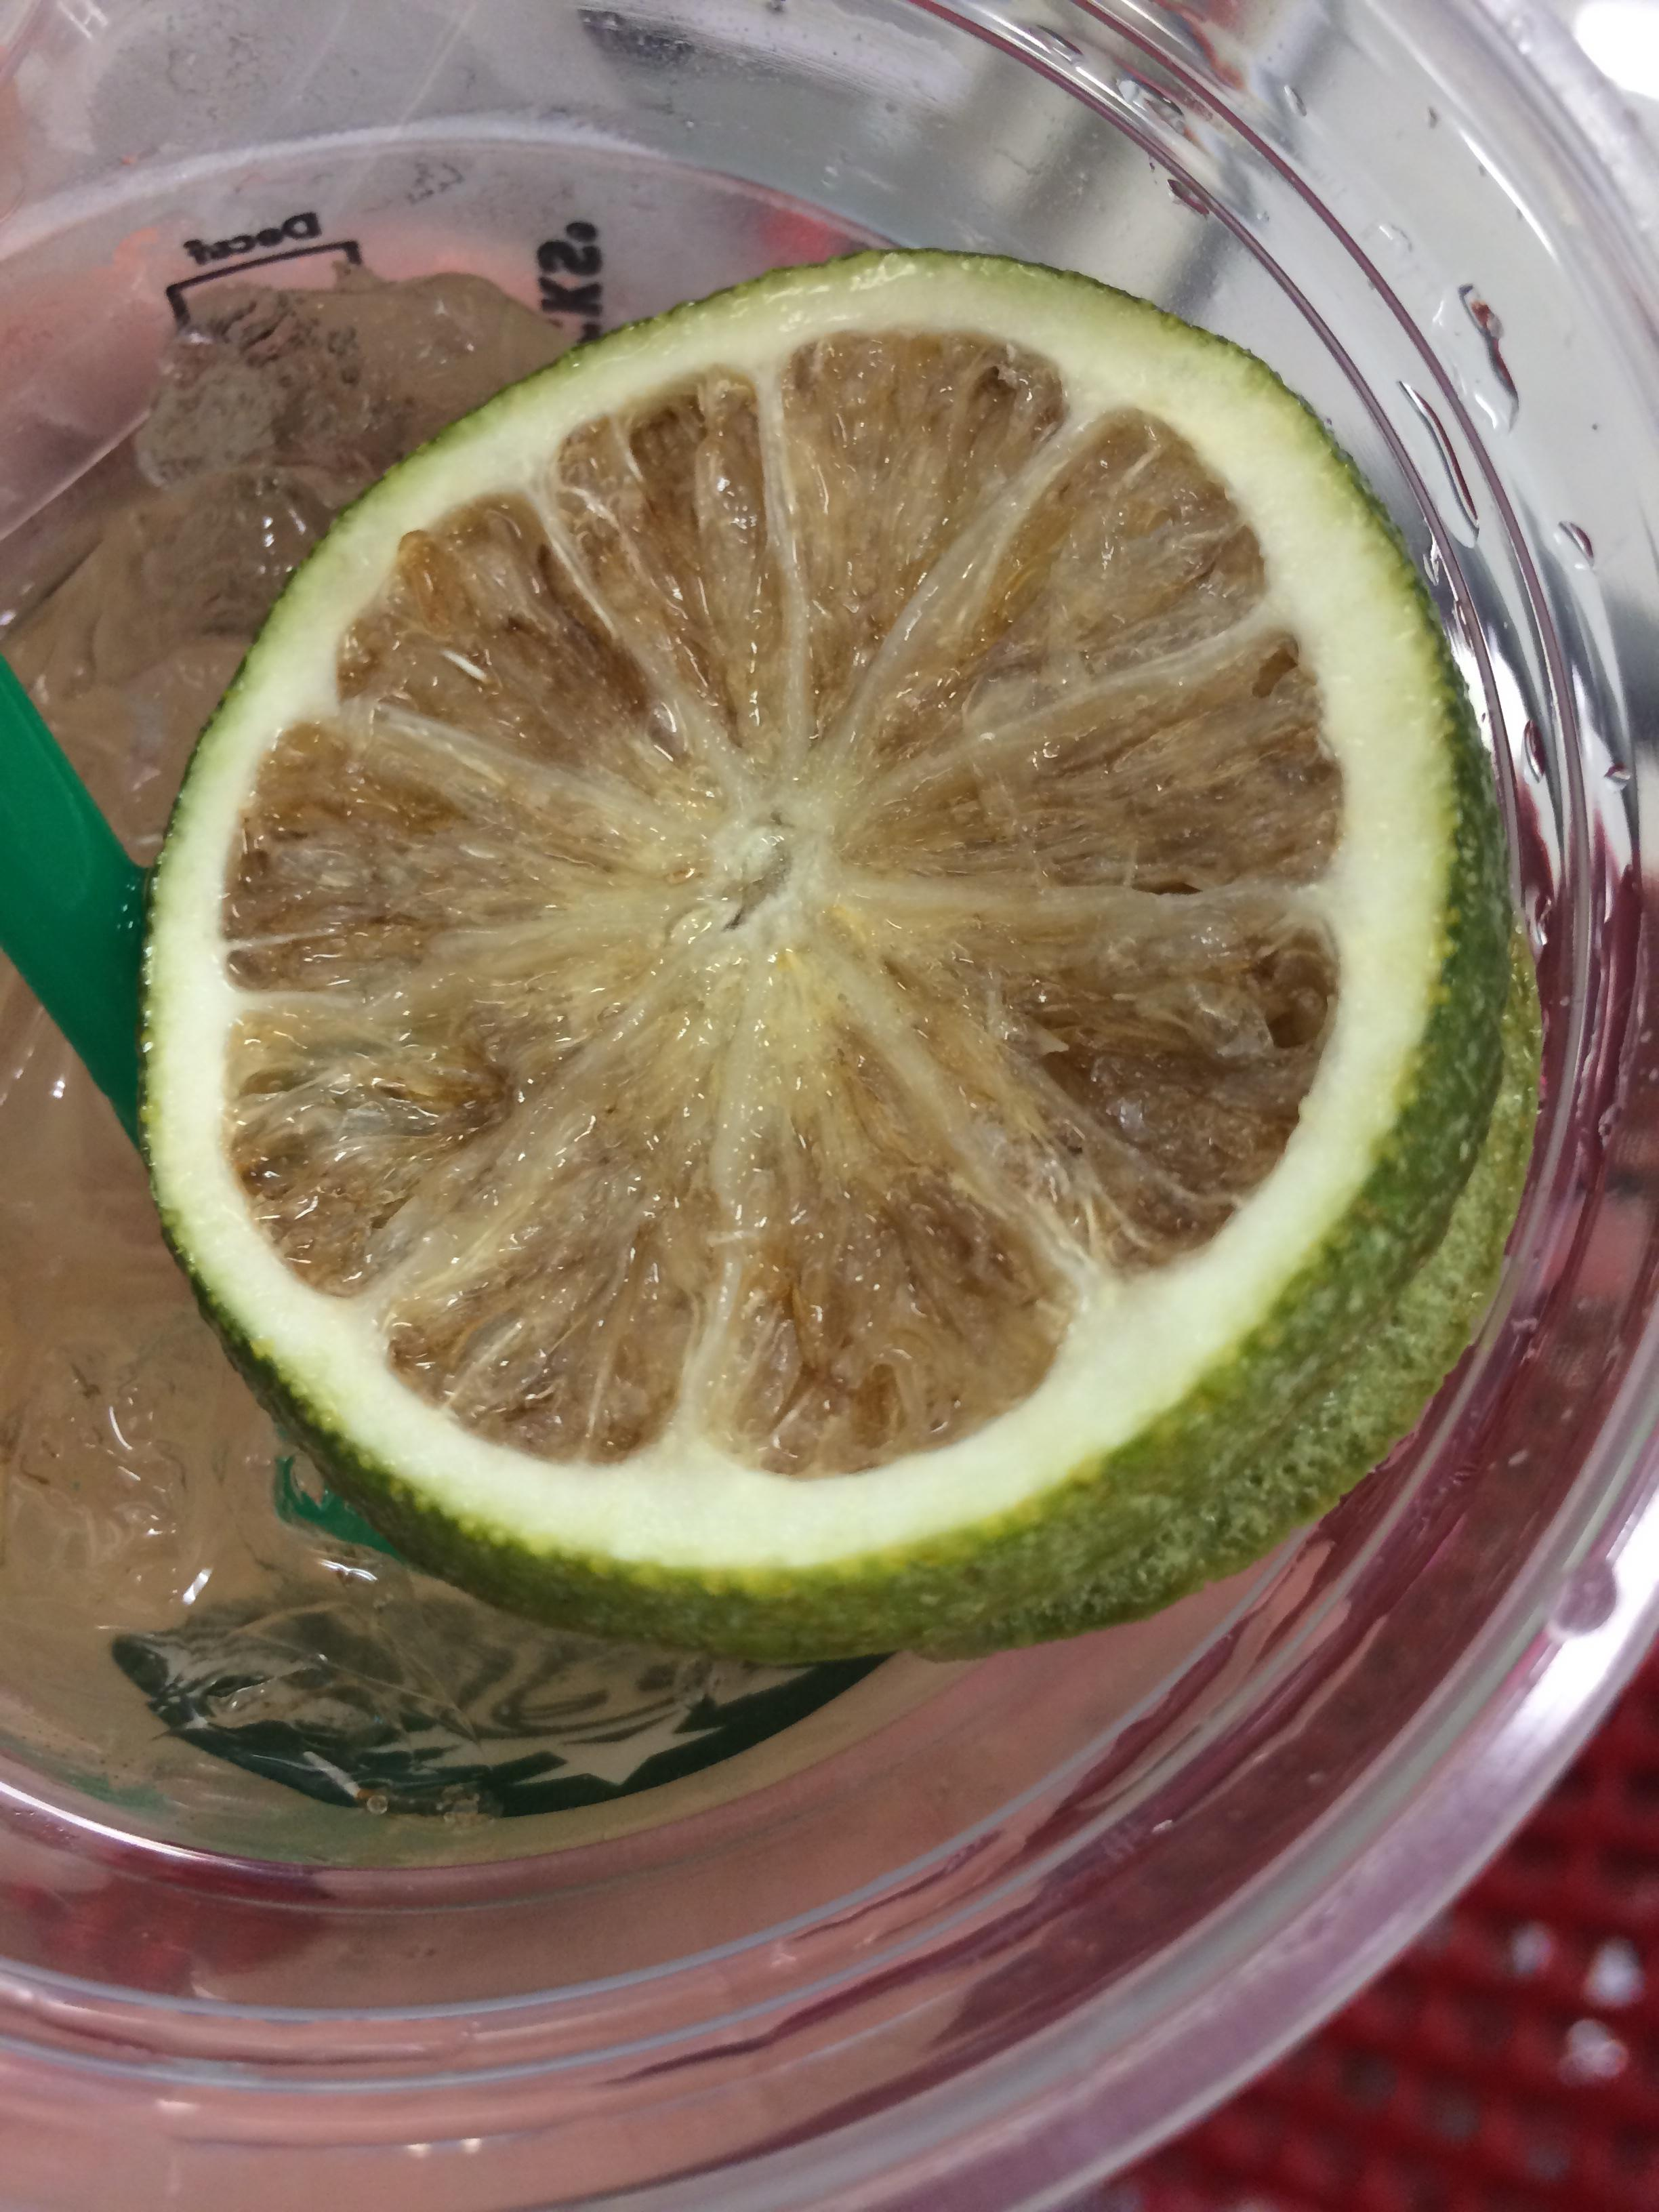damaged_lime: (204, 251, 1532, 1649)
